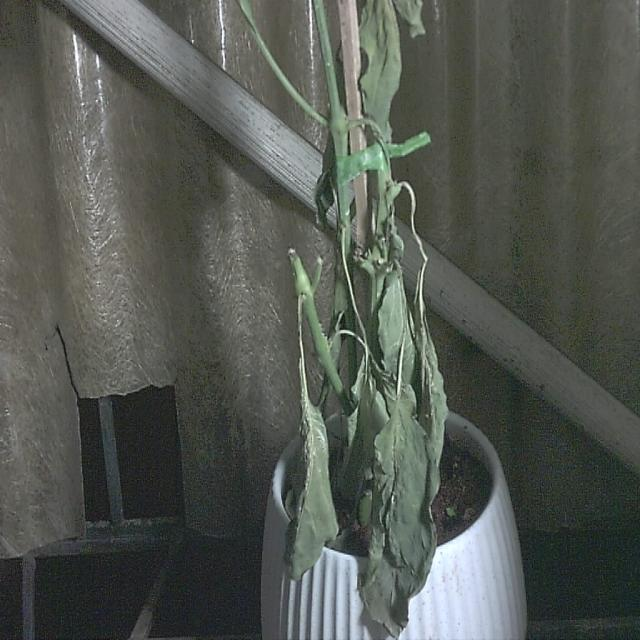Leaf: (356, 400, 438, 639), (280, 402, 340, 581)
